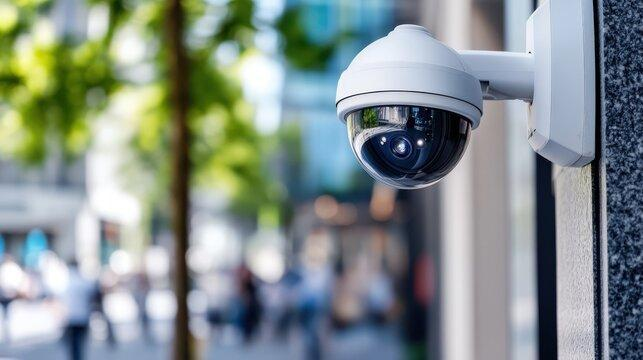360-Cam: (334, 16, 491, 195)
